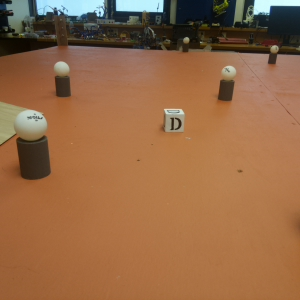blockD: (163, 109, 184, 133)
corner: (54, 16, 68, 45)
obstacle: (17, 110, 48, 180), (53, 61, 71, 97), (220, 66, 236, 103), (270, 44, 278, 64), (183, 36, 190, 52)
